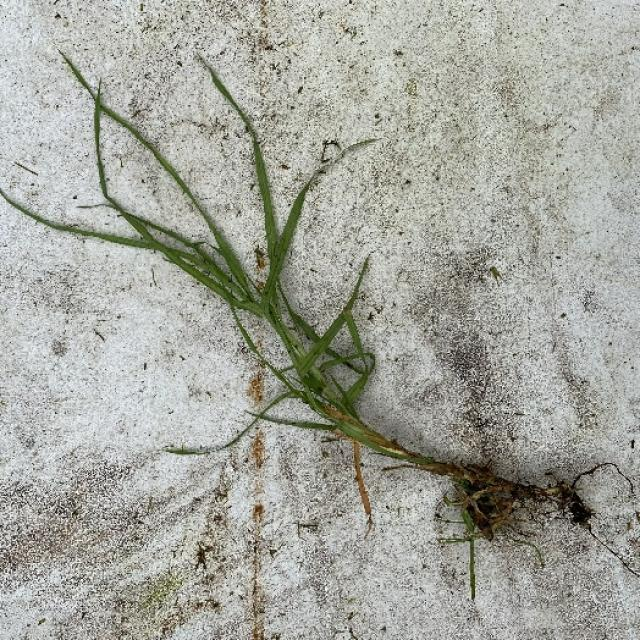organik: (18, 54, 600, 541)
